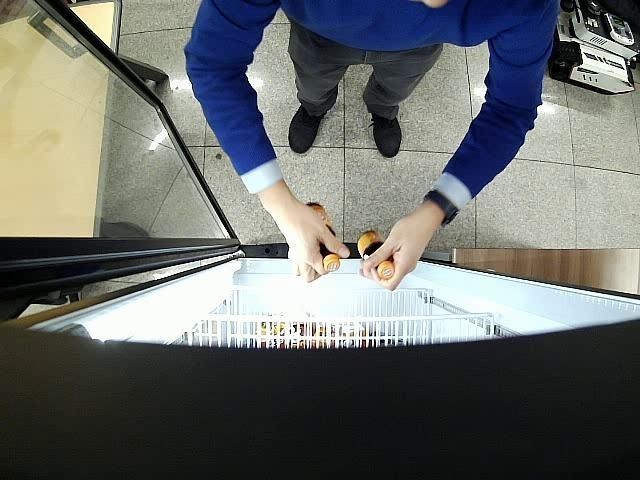17_vita500: (306, 202, 341, 274), (358, 230, 394, 280)
